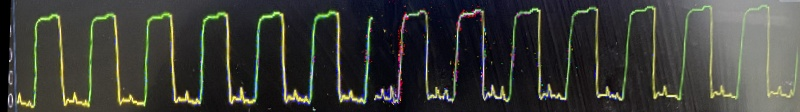hydrop_pressure: (7, 0, 800, 112)
